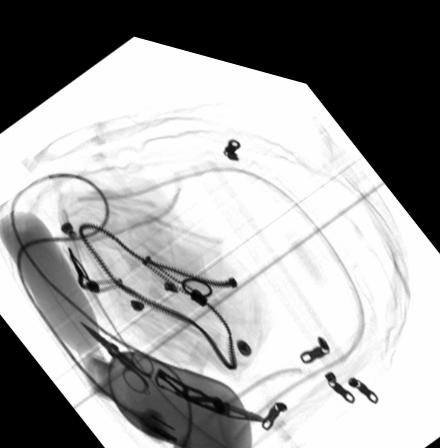Knife: (154, 357, 269, 406)
Scissors: (78, 316, 156, 386)
